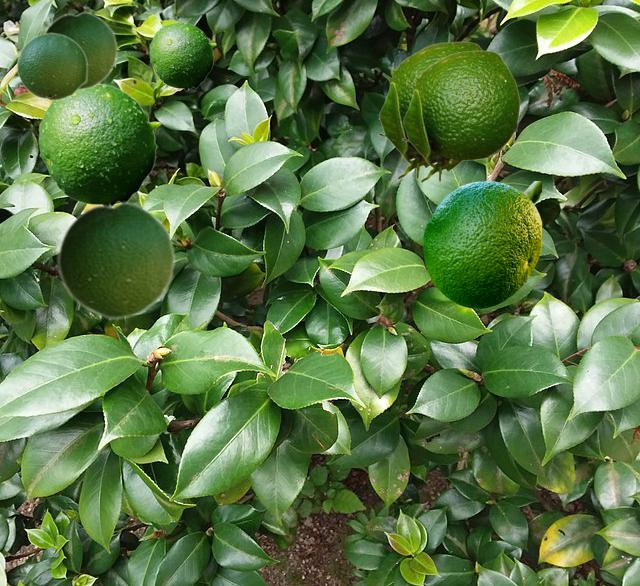dalandan: (401, 50, 519, 182), (38, 83, 160, 204), (423, 181, 540, 307), (377, 41, 482, 179), (56, 199, 175, 320), (43, 10, 117, 90), (16, 32, 87, 100), (149, 22, 215, 90)
